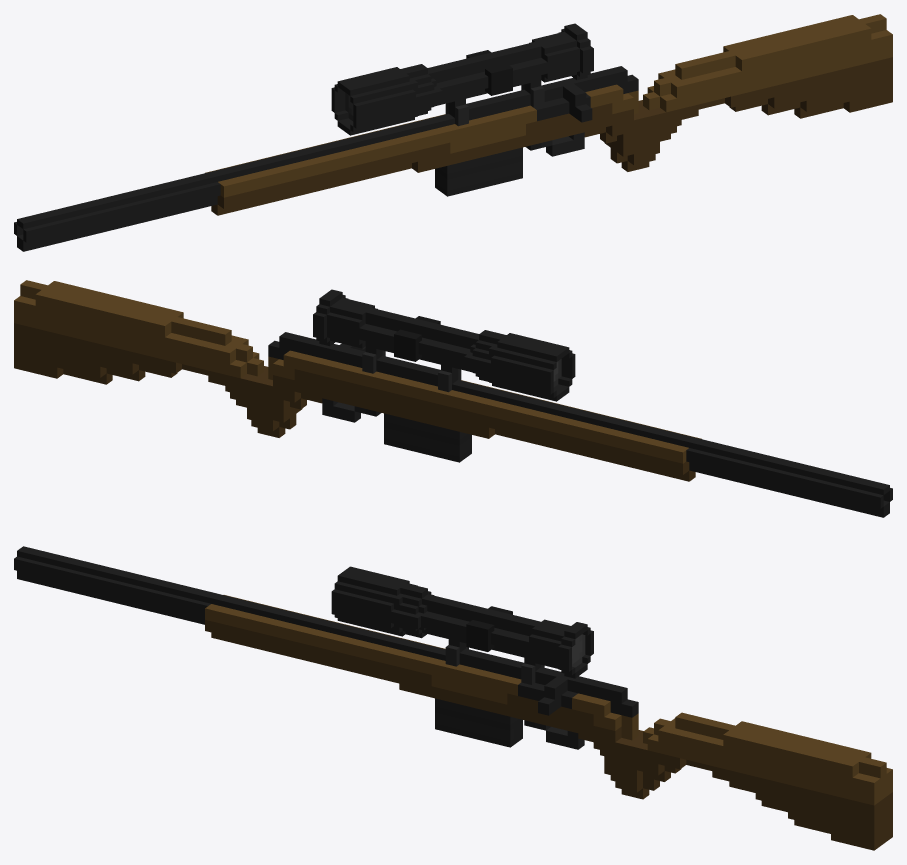
The model's file is fatal-cz527.obj.
The picture shows the model from 3 angles, top to bottom: view 1: azimuth 30°, elevation 25°; view 2: azimuth 150°, elevation 25°; view 3: azimuth 330°, elevation 25°; orthographic projection.
Size of the model in its own units: 16 by 2.7 by 1.1.
1 material, 1 textured.
